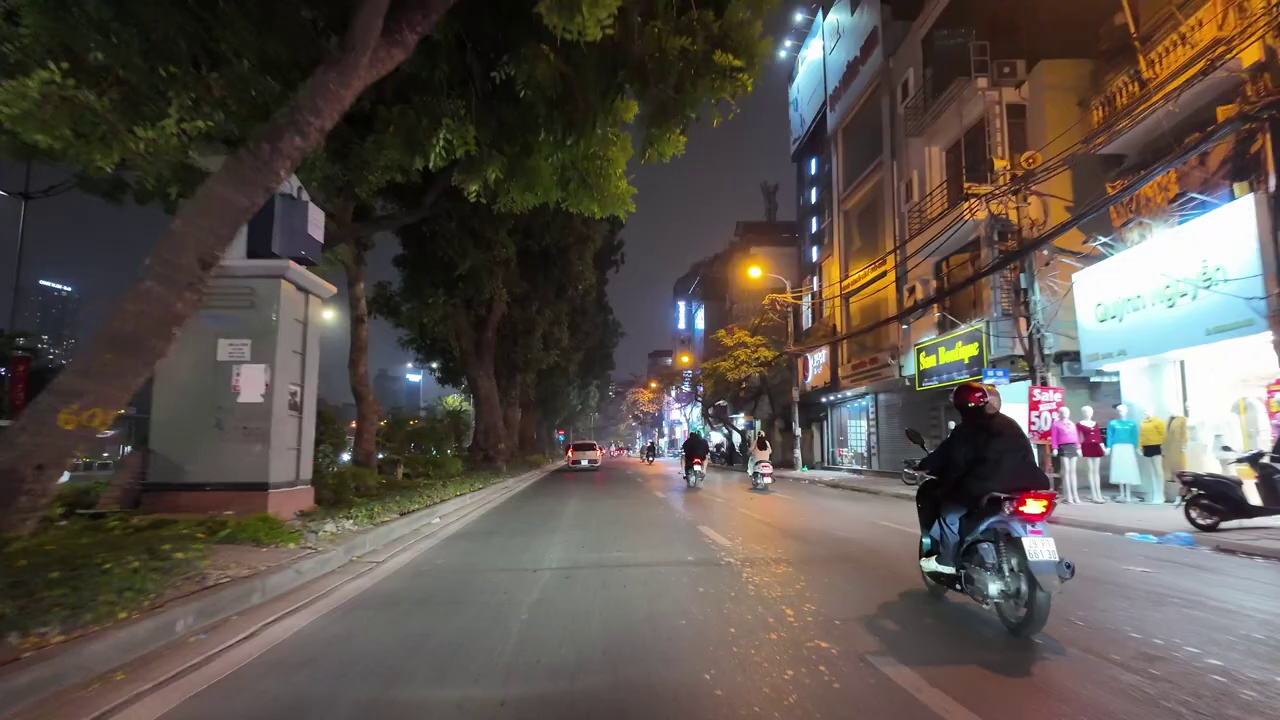acesa: (736, 256, 771, 289), (315, 303, 340, 328)
